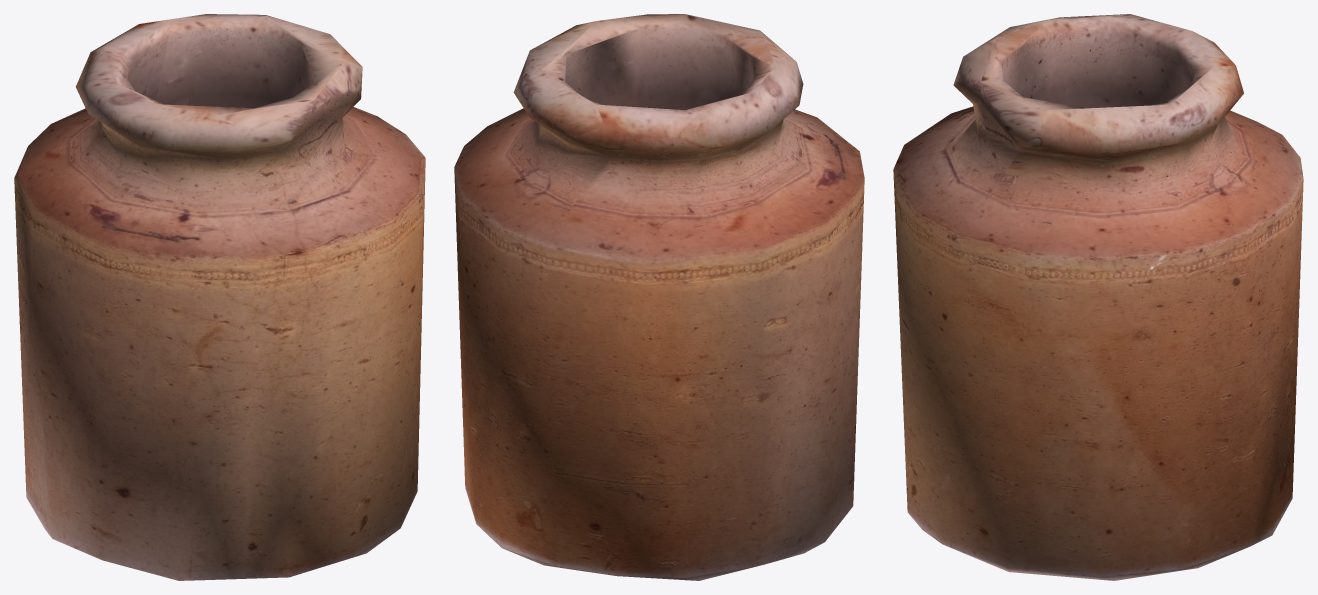
File: Jug.fbx
The picture shows the model from 3 angles, left to right: view 1: azimuth 30°, elevation 25°; view 2: azimuth 150°, elevation 25°; view 3: azimuth 270°, elevation 25°; orthographic projection.
Parts seen in each view (by area): view 1: Jug; view 2: Jug; view 3: Jug.
Boxes of the visible parts, x1,y1,x2,y2 form: Jug: (14,14,425,580); Jug: (454,14,864,580); Jug: (893,14,1303,580).
Bounding box in the file's own units: 12.85 × 15.09 × 12.81.
1 material, 1 textured.
